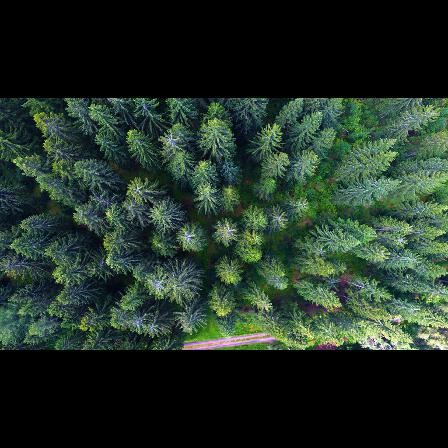Sick: (161, 130, 184, 158), (177, 224, 199, 248), (130, 316, 145, 331), (146, 322, 161, 335)
